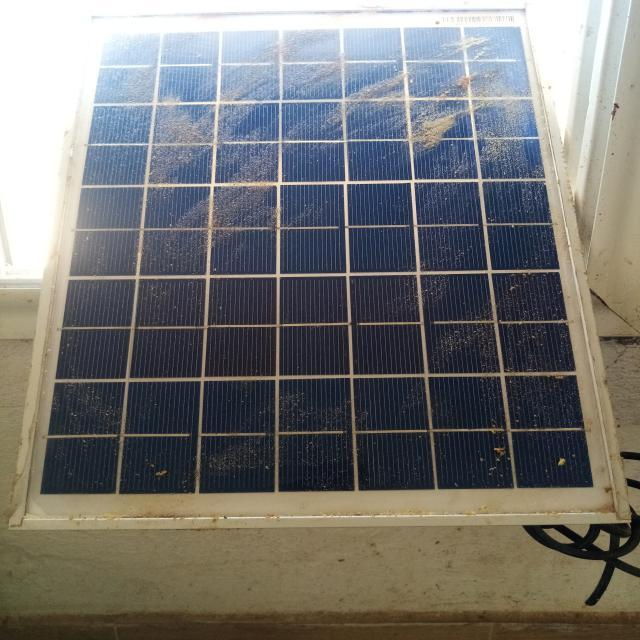faulty: (12, 6, 628, 523)
